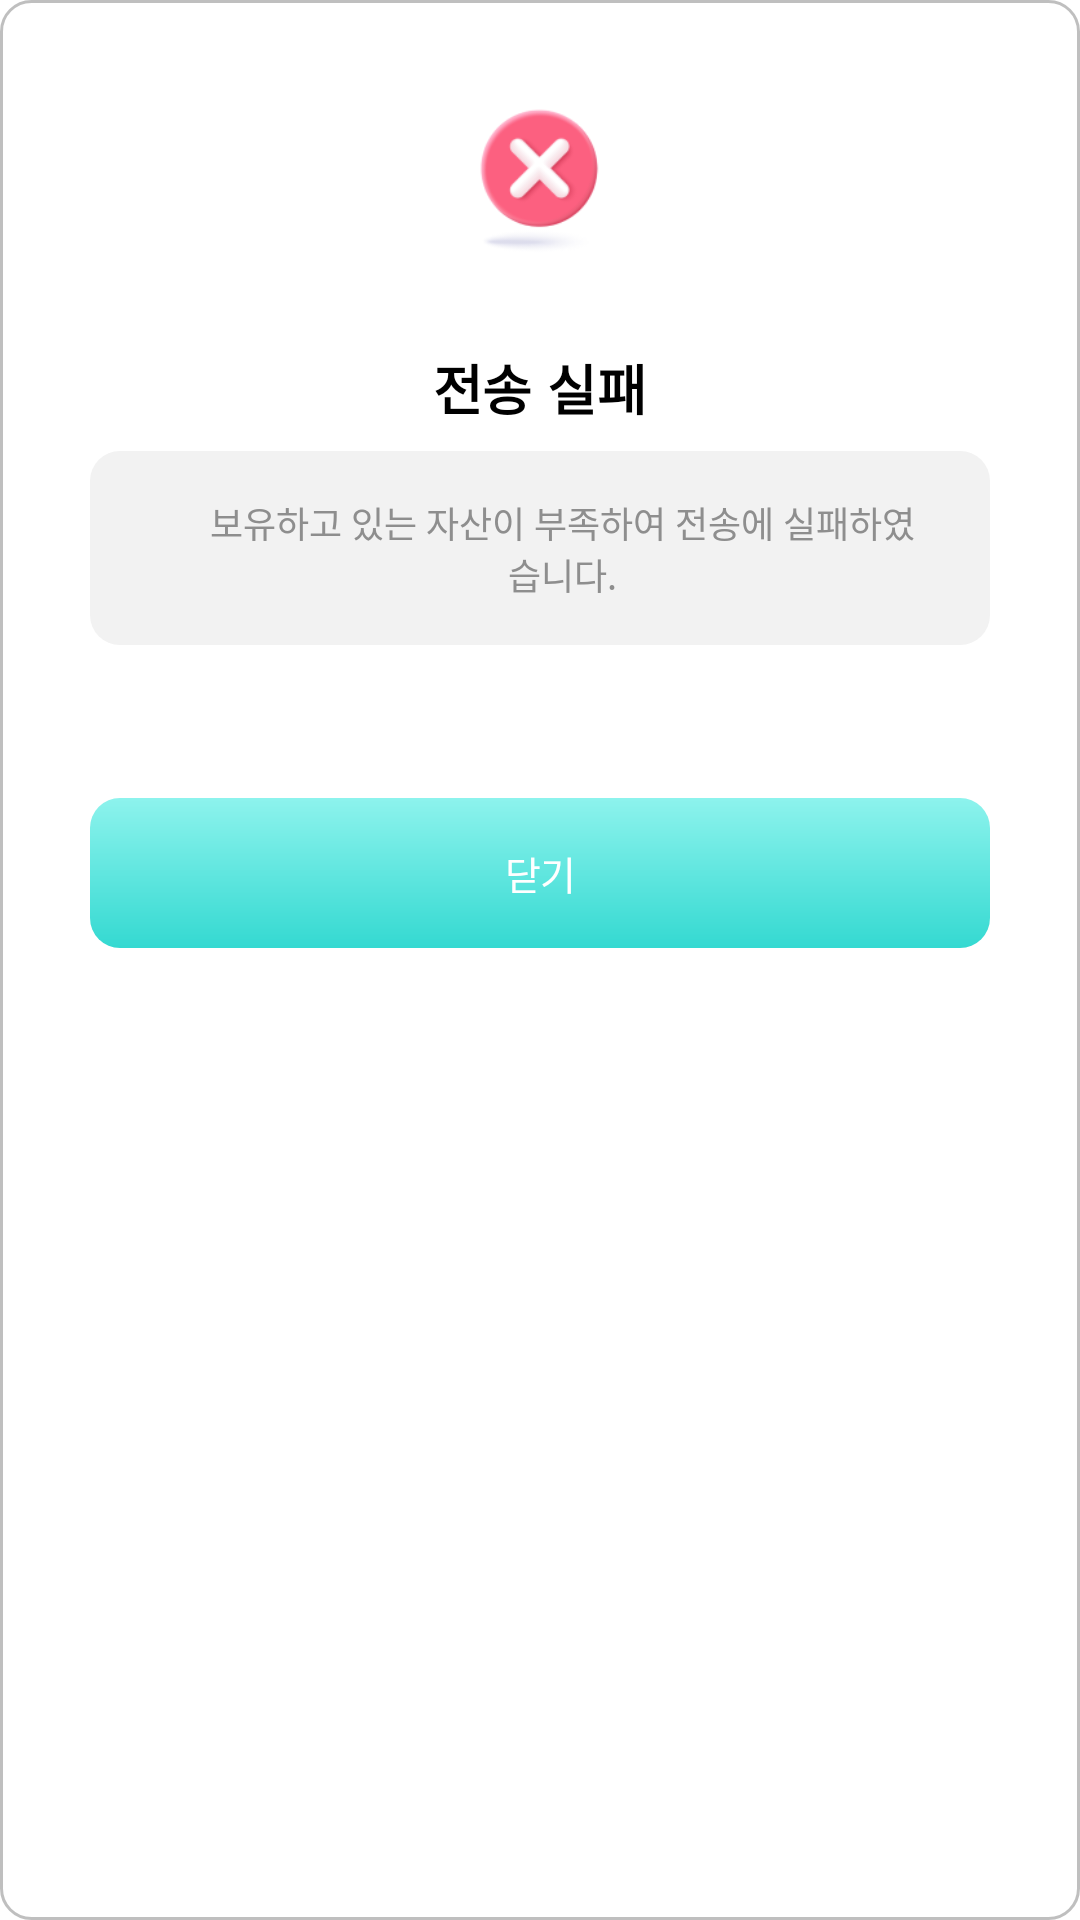

Locate icon controls on the screen. Image size 1080 x 1920, boxes as (x1, y1, x2, y2).
trafail: (481, 110, 598, 245)
